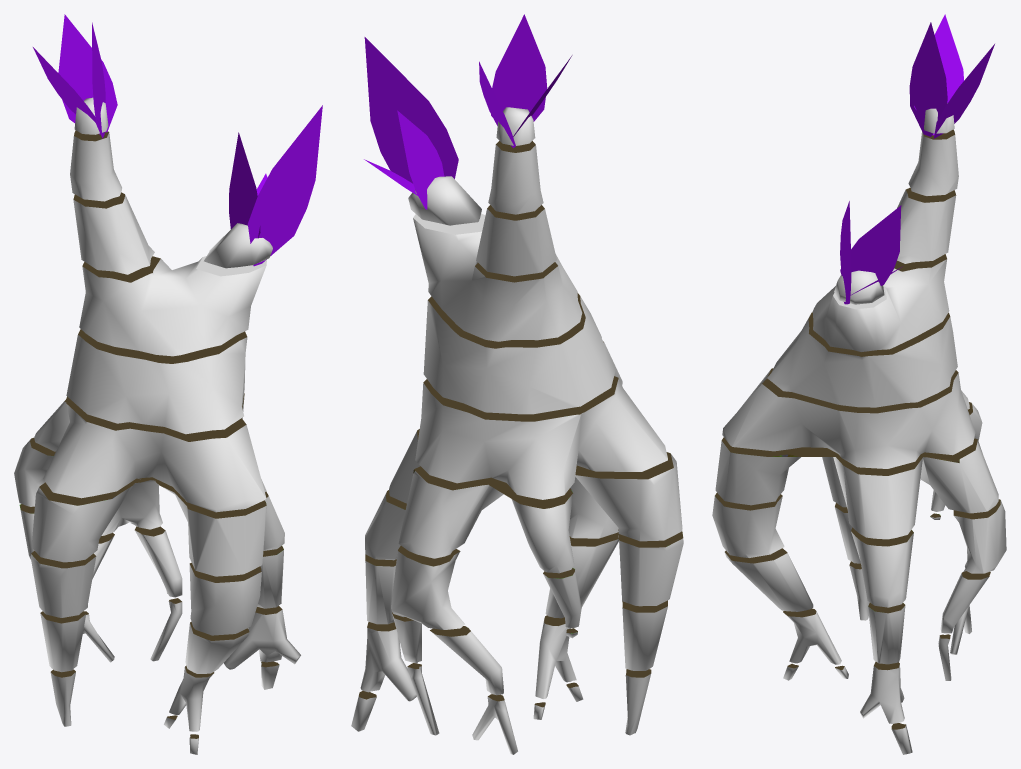
File: Rooble Root UV Unwrap Sliced.fbx
3 renders of one model, left to right at view 1: azimuth 30°, elevation 25°; view 2: azimuth 150°, elevation 25°; view 3: azimuth 270°, elevation 25°, orthographic. The views are drawn at different scales.
Parts seen in each view (by area): view 1: Tuber, Leaves, Interior; view 2: Tuber, Leaves, Interior; view 3: Tuber, Leaves, Interior.
Part boxes in pixels (x1,y1,x2,y2): Tuber: (14,97,300,754); Leaves: (33,14,322,266); Interior: (19,130,283,738); Tuber: (351,107,683,754); Leaves: (364,14,572,209); Interior: (359,141,683,707); Tuber: (712,103,1006,754); Leaves: (840,14,994,304); Interior: (715,129,1000,729).
Bounding box in the file's own units: 195 × 454 × 184.
